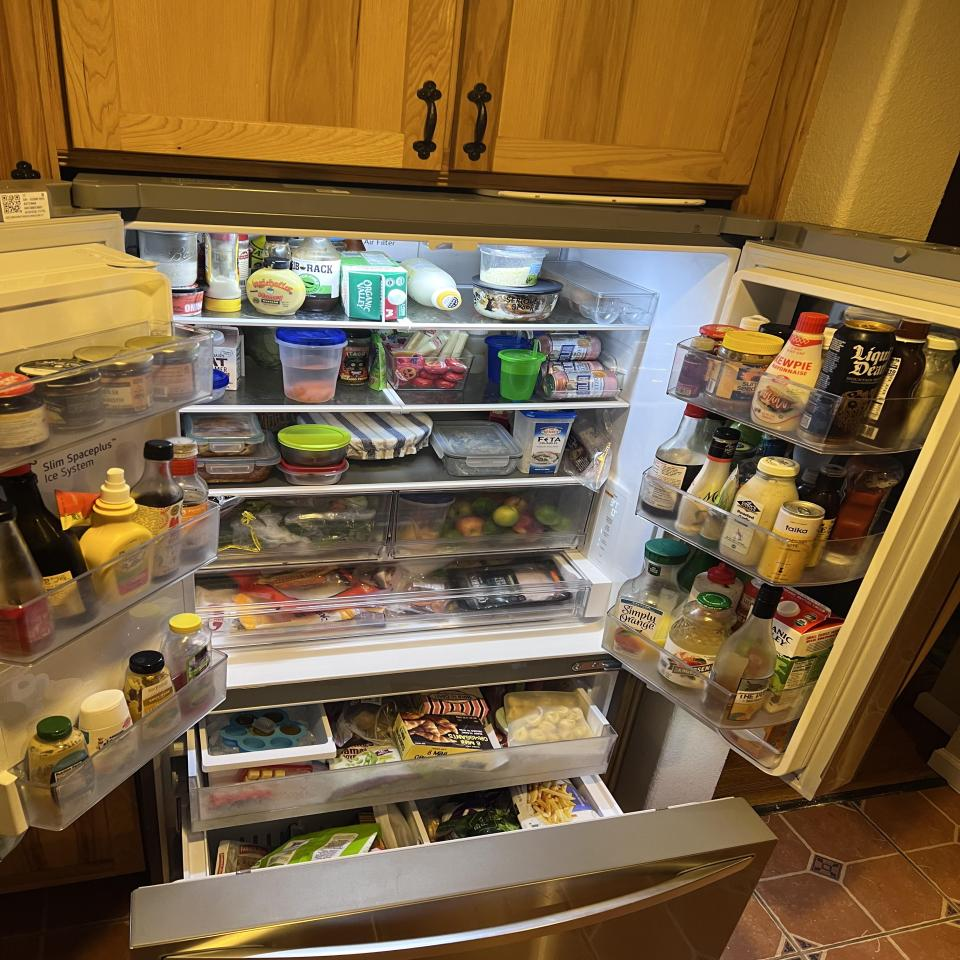Huevos: (542, 262, 656, 324)
Leche: (762, 586, 846, 713), (400, 258, 463, 311)
Manzana: (454, 517, 484, 538)
Queso: (408, 330, 469, 357)
lime: (534, 504, 563, 525), (493, 506, 519, 527), (471, 498, 498, 516), (482, 518, 504, 535), (551, 517, 575, 532), (441, 530, 463, 546)
mayonnaise: (202, 232, 244, 312)
